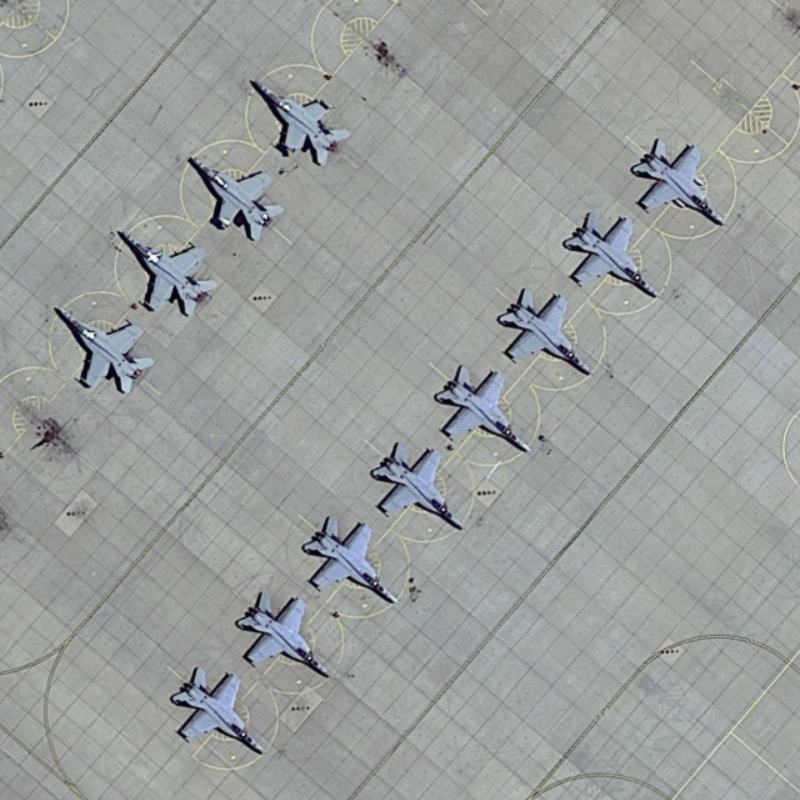A16: (296, 509, 403, 610), (169, 660, 271, 763), (50, 302, 158, 399), (367, 436, 470, 537), (627, 131, 730, 231), (492, 281, 596, 380), (430, 359, 535, 457), (183, 151, 290, 245), (114, 226, 221, 320), (232, 588, 335, 685), (249, 76, 355, 170), (558, 206, 664, 300)
